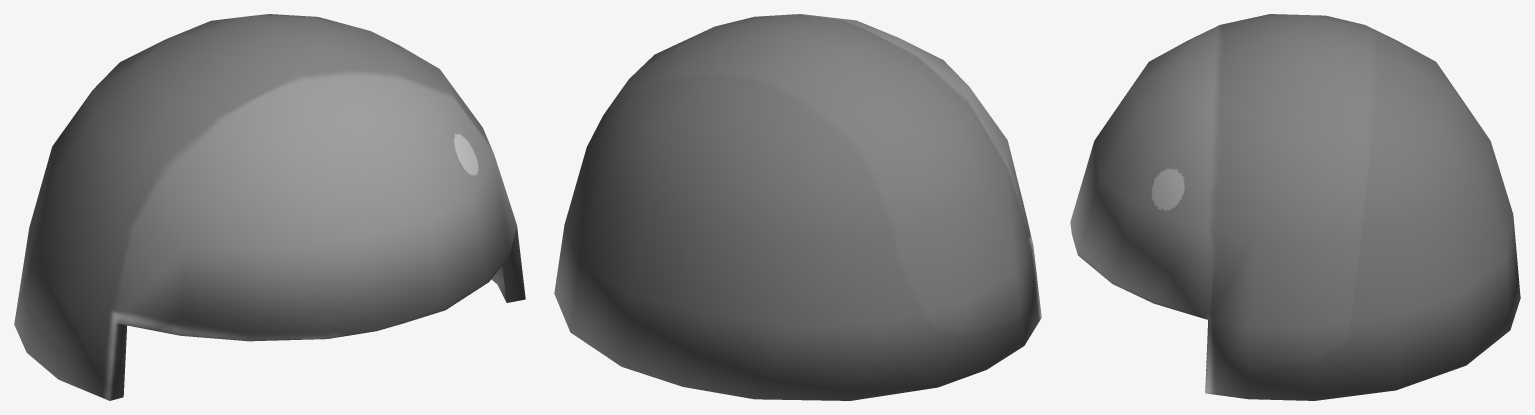
File: MetalHelmet.fbx
3 views of the same model, side by side, from view 1: azimuth 30°, elevation 25°; view 2: azimuth 150°, elevation 25°; view 3: azimuth 270°, elevation 25° (orthographic). The views are drawn at different scales.
Visible parts, largest first — view 1: MetalHelmet; view 2: MetalHelmet; view 3: MetalHelmet.
Part boxes in pixels (<box>): MetalHelmet: <box>14,14,525,400</box>; MetalHelmet: <box>554,14,1041,400</box>; MetalHelmet: <box>1070,14,1520,400</box>.
Size of the model in its own units: 0.6753 by 0.4114 by 0.6257.
